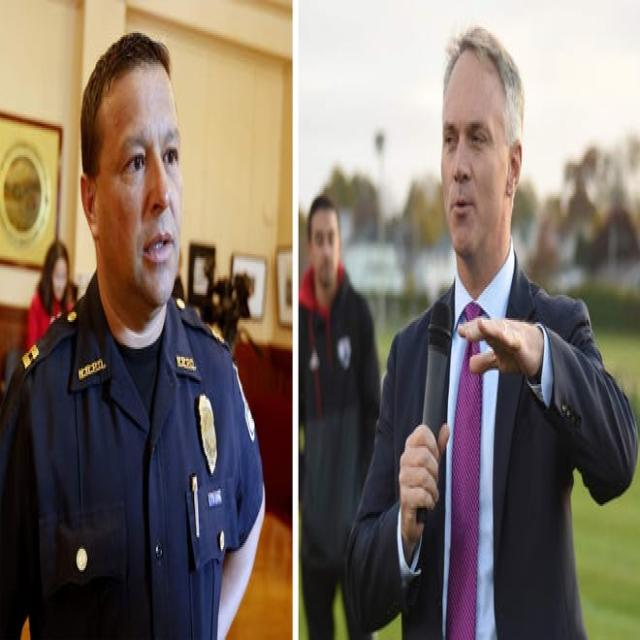police: (8, 21, 268, 640)
